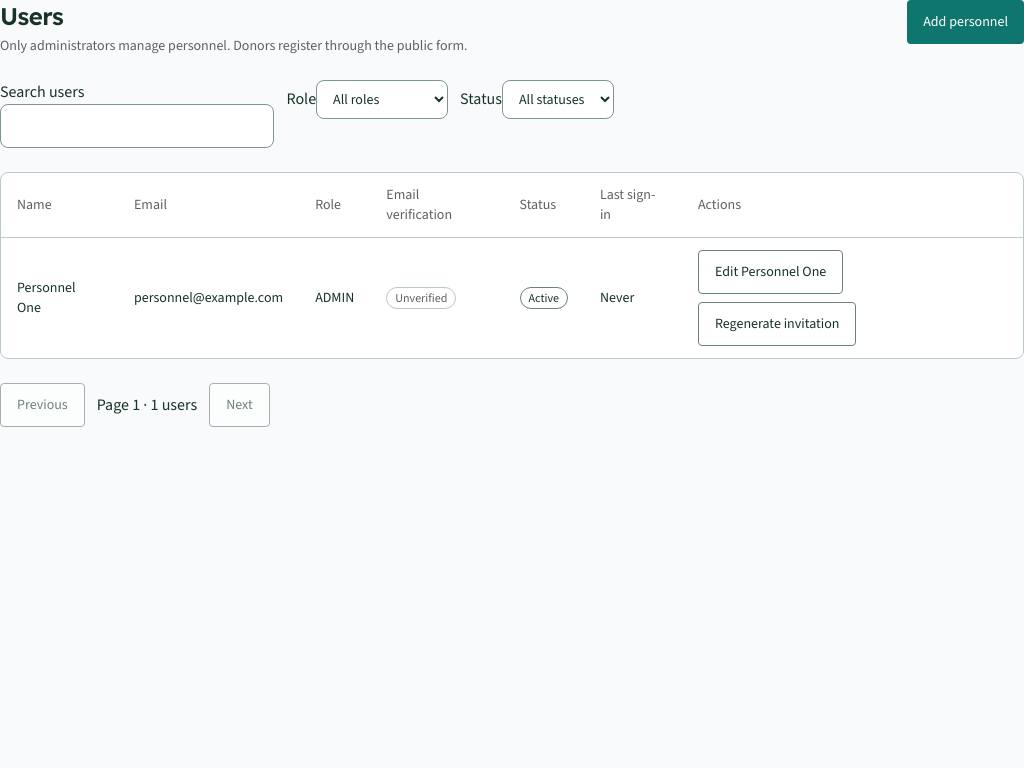
Test: M5D admin tools › keeps self-demotion and self-disable controls unavailable
What coordinates should you click on to do the following:
click the button "Edit Personnel One"
I would click on:
 (771, 272)
Its box is [698,250,843,294].
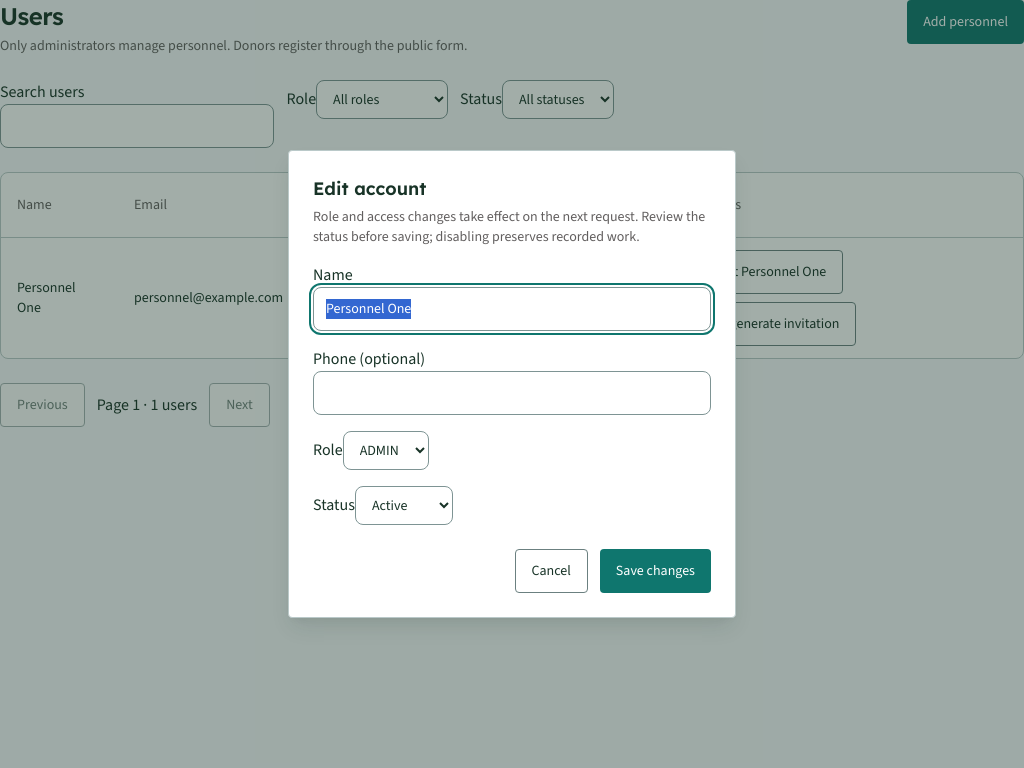
Now the dropdown named "role" is disabled, box [343,431,429,470]
Now the dropdown named "isActive" is disabled, box [355,486,453,525]
